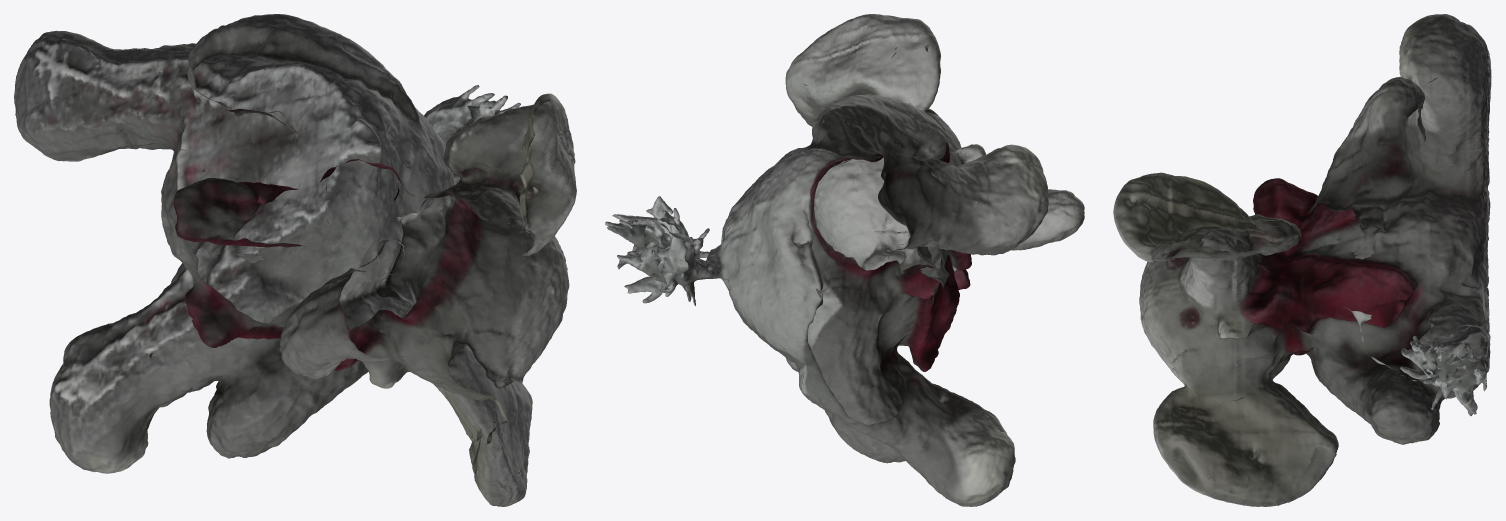
File: elephant.glb
The picture shows the model from 3 angles, left to right: view 1: azimuth 30°, elevation 25°; view 2: azimuth 150°, elevation 25°; view 3: azimuth 270°, elevation 25°; orthographic projection. The views are drawn at different scales.
Bounding box in the file's own units: 1 × 0.8249 × 0.7818.
